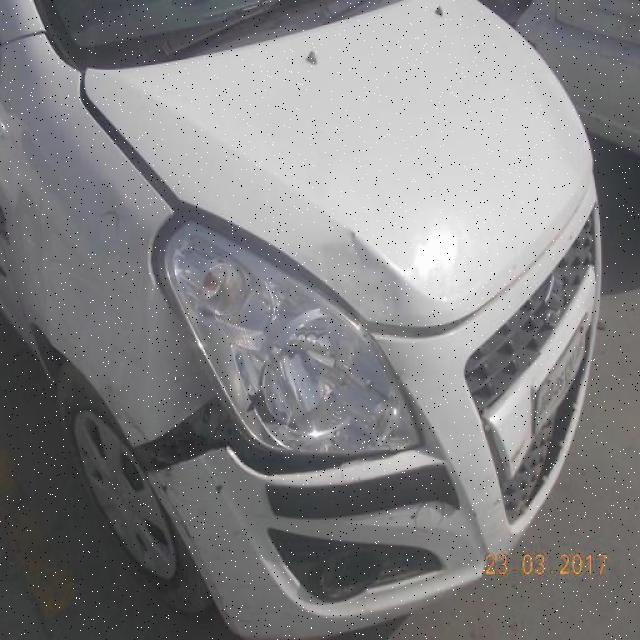car damage: (133, 395, 395, 478), (306, 235, 403, 322)
